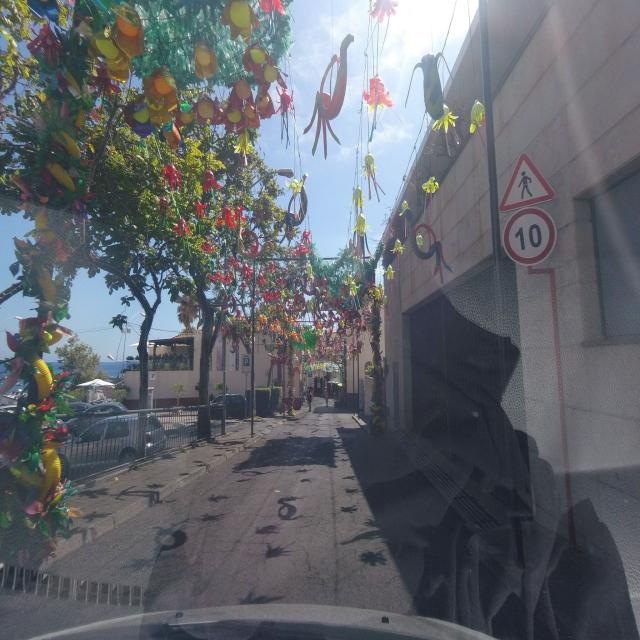car: (68, 380, 128, 406), (66, 402, 152, 420), (208, 394, 249, 419)
